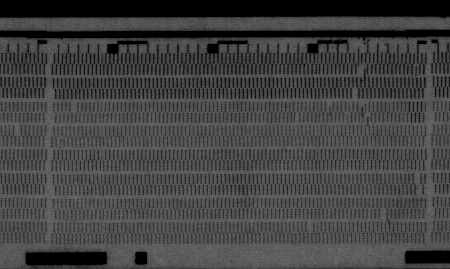Broken hole: (411, 171, 425, 196), (378, 208, 390, 222), (303, 220, 317, 232), (11, 126, 23, 138), (68, 101, 79, 114), (350, 88, 359, 100)
Oblique printing: (354, 62, 367, 81), (361, 112, 373, 128), (409, 64, 421, 78), (324, 100, 335, 115), (356, 100, 366, 116), (289, 112, 301, 122)
